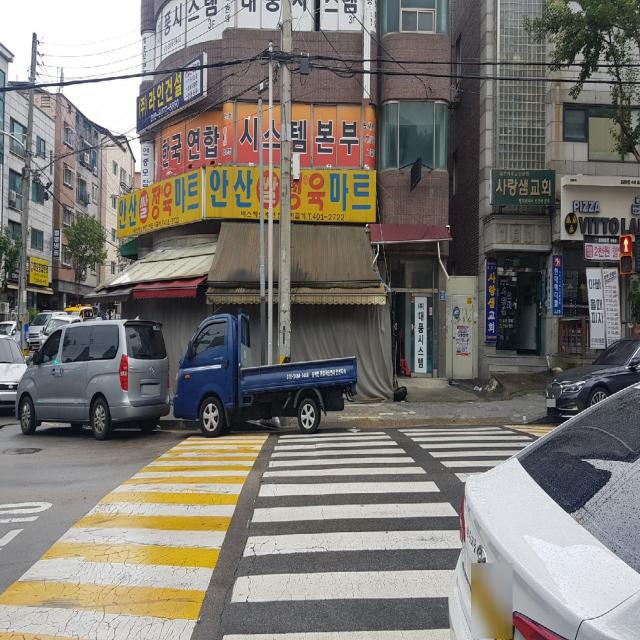횡단보도: (222, 424, 534, 640)
